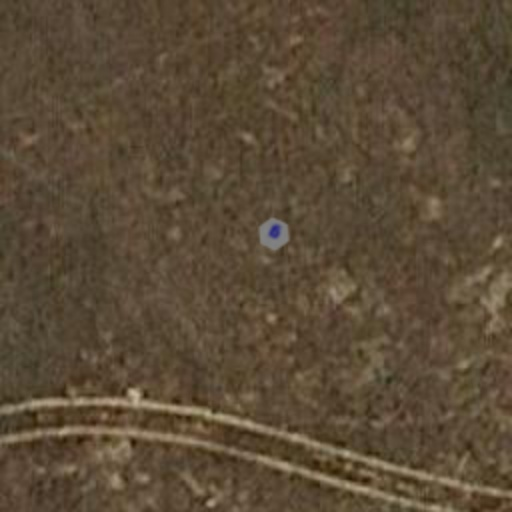hexagon: (250, 210, 298, 258)
